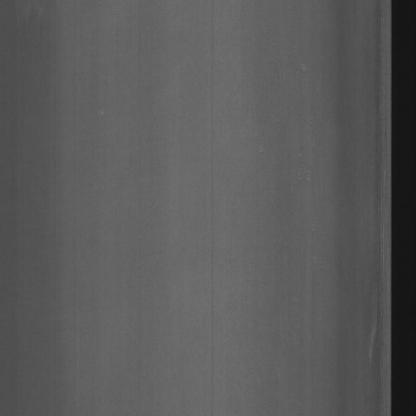silk_spot: (370, 79, 390, 362)
